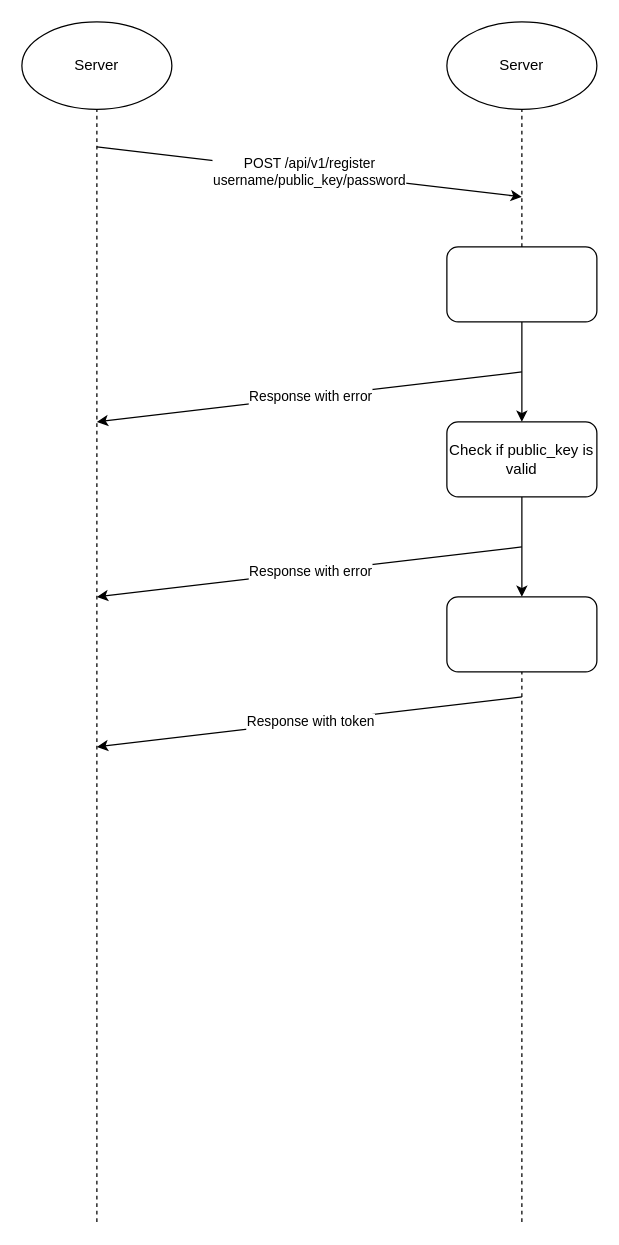
The diagram is 619 pixels wide and 1245 high, and some of its shapes have lost their labels. The centre of each missing label's shape, as x and y in pixels:
Check if username is valid and not taken: point (521, 284)
Do password magic: point (521, 634)
